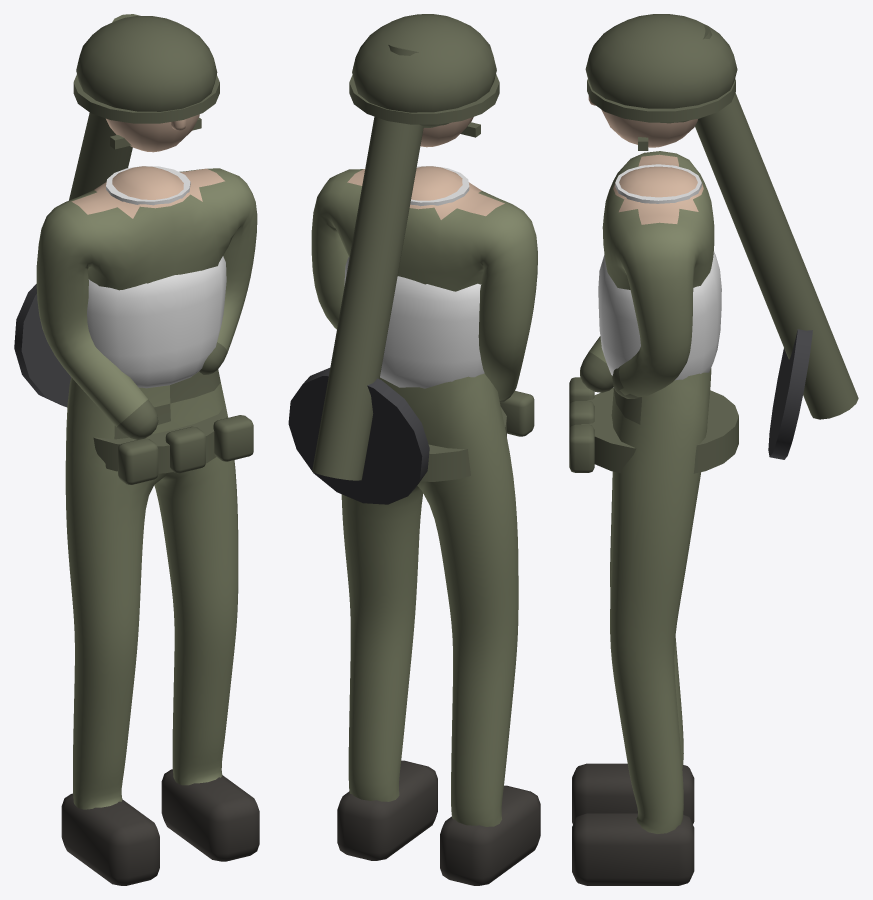
The model's file is mortar.glb.
3 views of the same model, side by side, from view 1: azimuth 30°, elevation 25°; view 2: azimuth 150°, elevation 25°; view 3: azimuth 270°, elevation 25° (orthographic). The views are drawn at different scales.
Parts seen in each view (by area): view 1: body; view 2: body; view 3: body.
Part boxes in pixels (<box>): body: <box>14,14,259,885</box>; body: <box>288,14,540,885</box>; body: <box>569,14,858,885</box>.
Size of the model in its own units: 0.482 by 1.8 by 0.5677.
